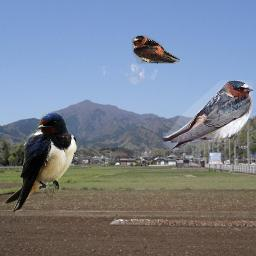Swallow: (4, 111, 78, 214), (163, 80, 253, 152), (132, 35, 180, 64)
